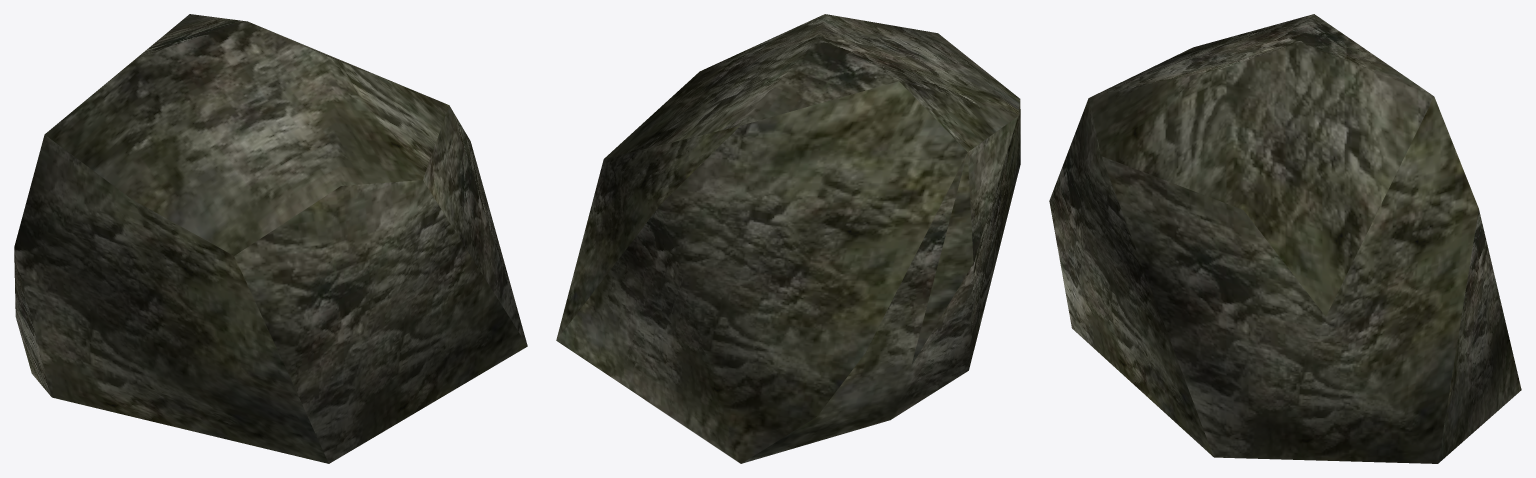
Rendered from MIN_MOB_STONE_V2_20.glb.
3 renders of one model, left to right at view 1: azimuth 30°, elevation 25°; view 2: azimuth 150°, elevation 25°; view 3: azimuth 270°, elevation 25°, orthographic. The views are drawn at different scales.
Visible parts, largest first — view 1: Mesh; view 2: Mesh; view 3: Mesh.
Part boxes in pixels (left/top/right/bottom): Mesh: left=14, top=14, right=527, bottom=463; Mesh: left=556, top=14, right=1020, bottom=463; Mesh: left=1049, top=14, right=1521, bottom=463.
Bounding box in the file's own units: 1.72 × 1.48 × 1.75.
Materials: 1 (1 with a texture image).
